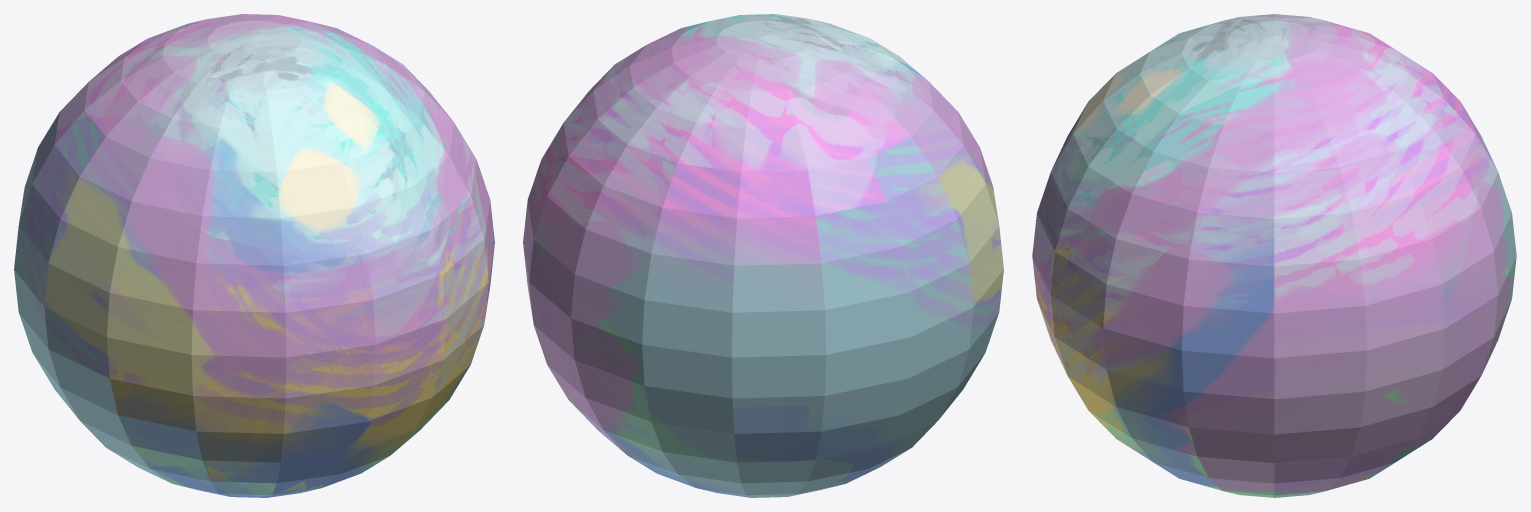
Rendered from pearl.glb.
3 renders of one model, left to right at view 1: azimuth 30°, elevation 25°; view 2: azimuth 150°, elevation 25°; view 3: azimuth 270°, elevation 25°, orthographic.
Visible parts, largest first — view 1: Sphere; view 2: Sphere; view 3: Sphere.
Part boxes in pixels (x1,y1,x2,y2): Sphere: [14, 14, 494, 497]; Sphere: [523, 14, 1003, 497]; Sphere: [1032, 14, 1516, 497].
Size of the model in its own units: 2 by 2 by 2.
1 material, 1 textured.
